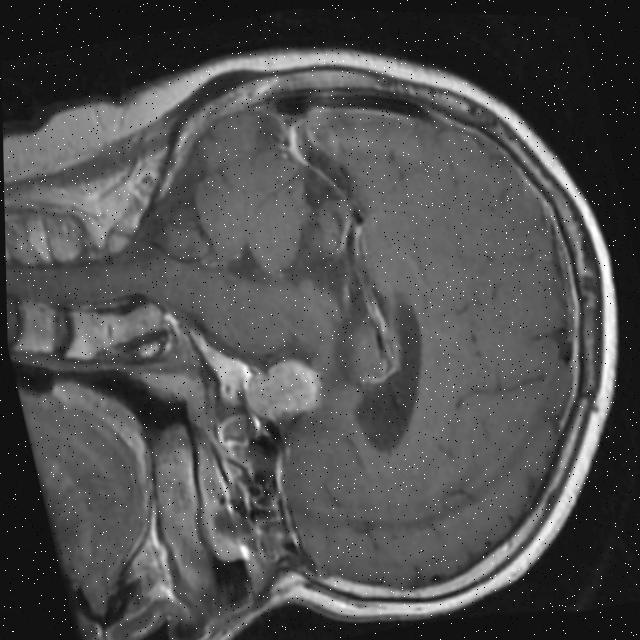Pituitary: (240, 350, 328, 423)
